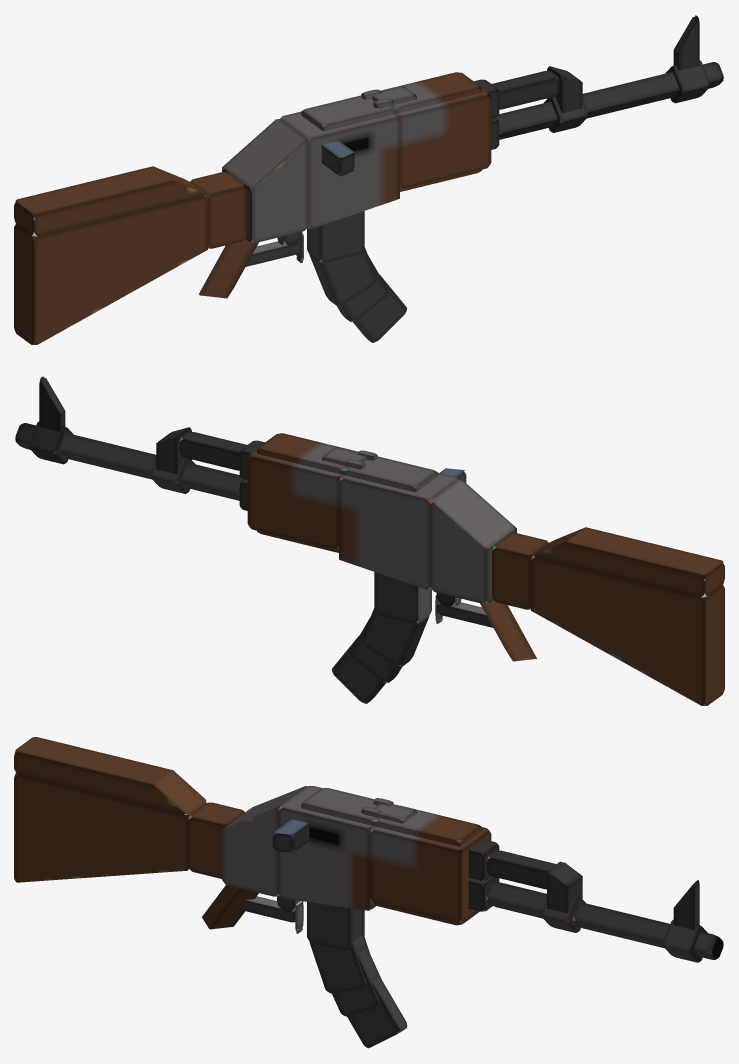
The picture shows the model from 3 angles, top to bottom: view 1: azimuth 30°, elevation 25°; view 2: azimuth 150°, elevation 25°; view 3: azimuth 330°, elevation 25°; orthographic projection.
Visible parts, largest first — view 1: body, stock, barrel, magazine; view 2: body, stock, barrel, magazine; view 3: body, stock, barrel, magazine.
Part boxes in pixels (x1=…): body: x1=222, y1=72, x2=491, y2=266; stock: x1=14, y1=166, x2=258, y2=344; barrel: x1=474, y1=15, x2=723, y2=149; magazine: x1=307, y1=211, x2=406, y2=342; body: x1=247, y1=433, x2=516, y2=627; stock: x1=480, y1=527, x2=724, y2=705; barrel: x1=15, y1=376, x2=264, y2=510; magazine: x1=332, y1=572, x2=431, y2=703; body: x1=222, y1=786, x2=491, y2=933; stock: x1=14, y1=737, x2=258, y2=929; barrel: x1=457, y1=839, x2=723, y2=962; magazine: x1=307, y1=902, x2=407, y2=1048.
Size of the model in its own units: 249 by 84.45 by 30.47.
